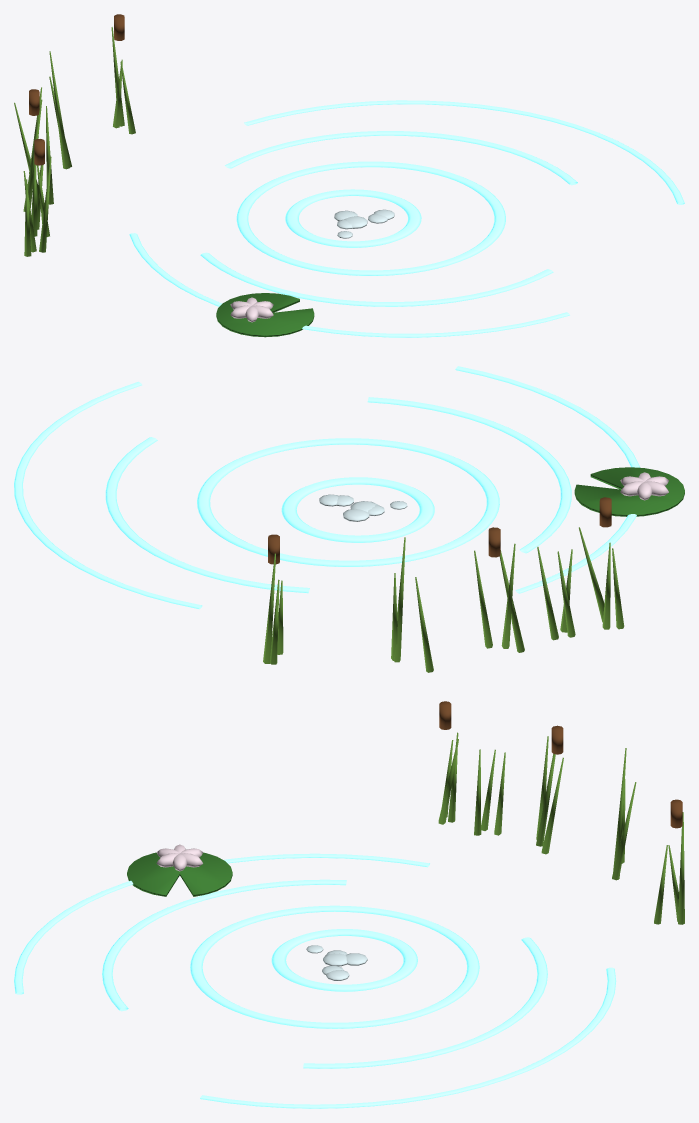
File: fanggrund.glb
The picture shows the model from 3 angles, top to bottom: view 1: azimuth 30°, elevation 25°; view 2: azimuth 150°, elevation 25°; view 3: azimuth 270°, elevation 25°; orthographic projection. The views are drawn at different scales.
Visible parts, largest first — view 1: Torus; view 2: Torus; view 3: Torus.
Part boxes in pixels (box(x1,y1,x2,y2)): Torus: box(14, 14, 684, 337); Torus: box(14, 366, 684, 672); Torus: box(14, 701, 684, 1108).
Size of the model in its own units: 2.13 by 0.4209 by 2.03.
